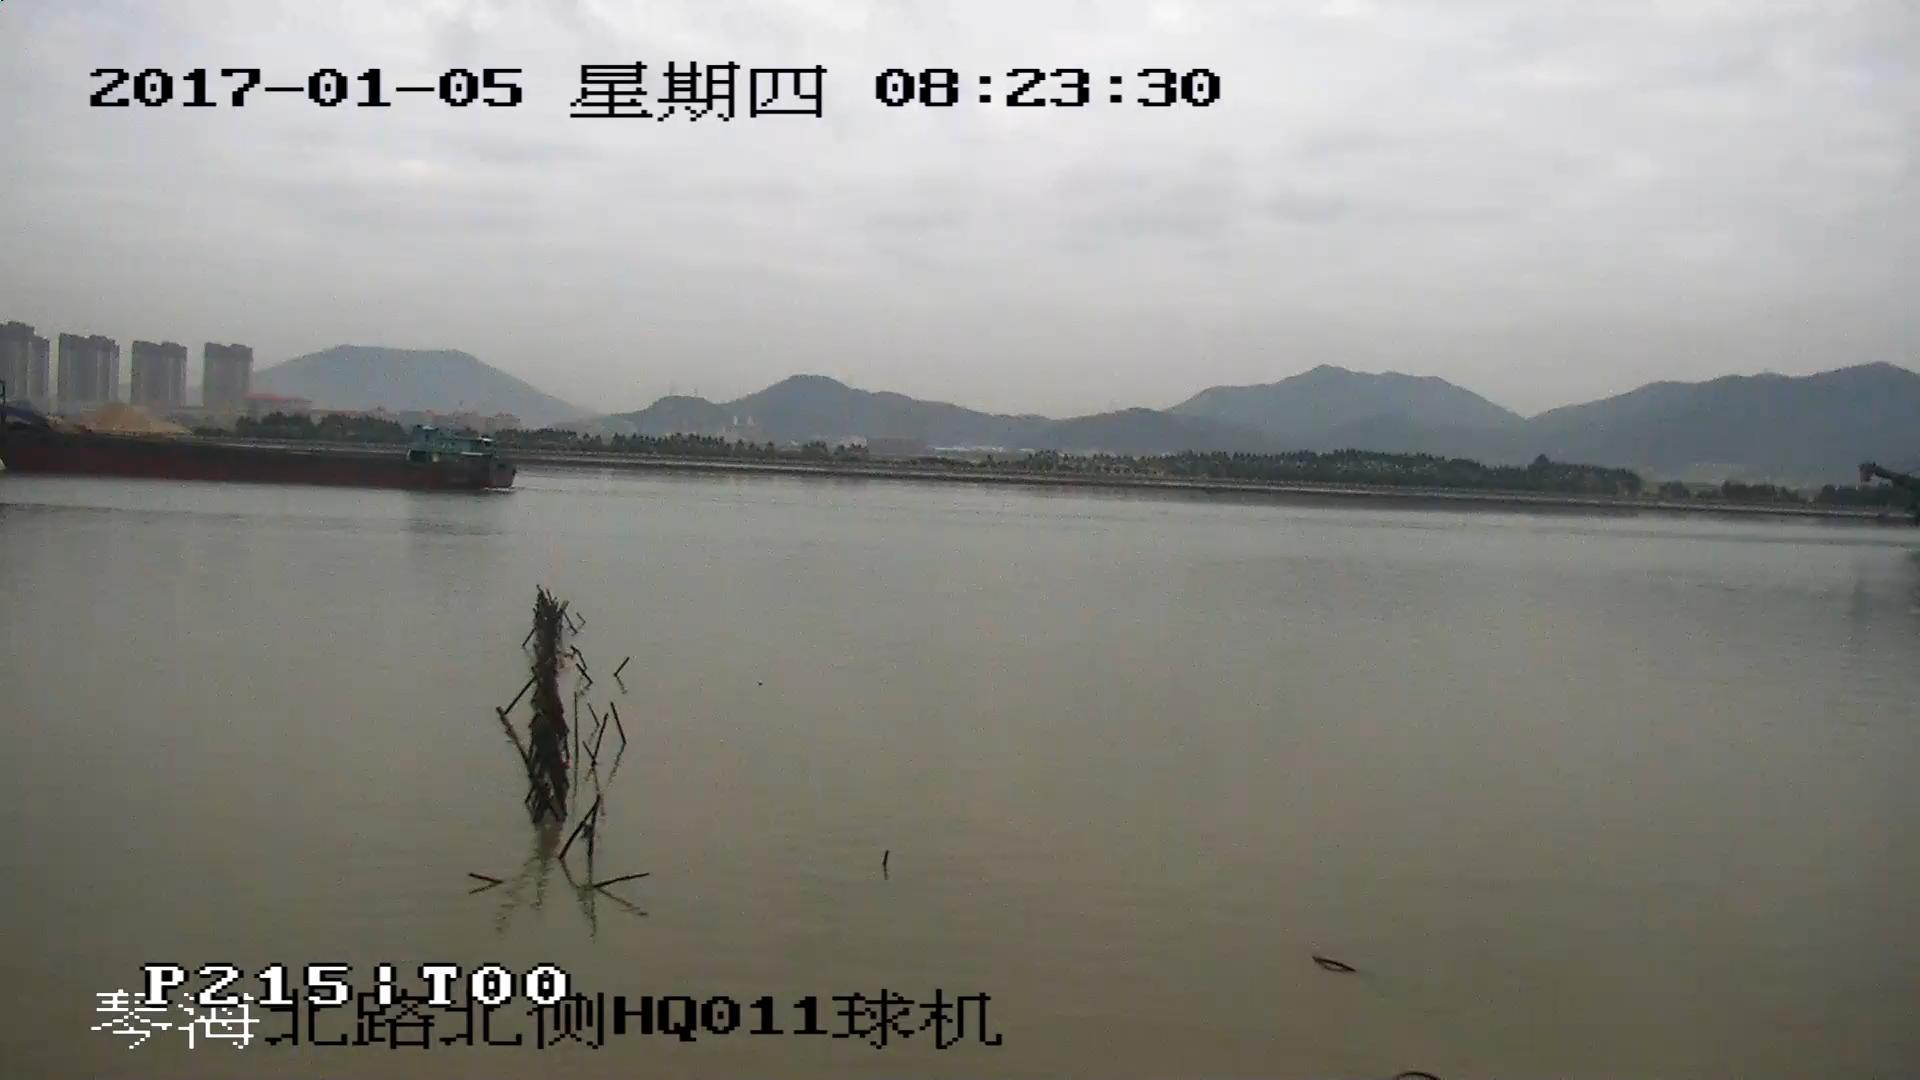Ship: (3, 425, 520, 492)
